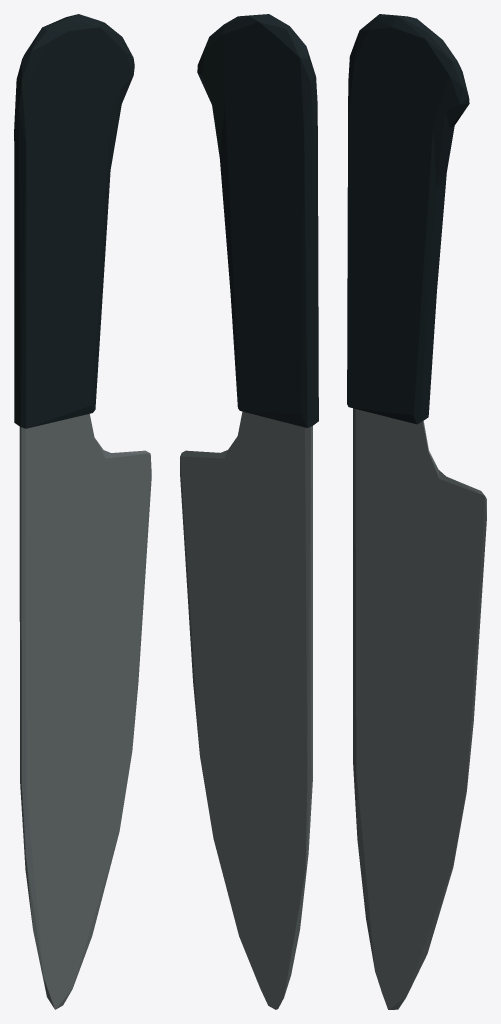
Rendered from Knife04.fbx.
3 views of the same model, side by side, from view 1: azimuth 30°, elevation 25°; view 2: azimuth 150°, elevation 25°; view 3: azimuth 330°, elevation 25° (orthographic).
Parts seen in each view (by area): view 1: Knife04LowPoly; view 2: Knife04LowPoly; view 3: Knife04LowPoly.
Boxes of the visible parts, box(x1,y1,x2,y2) form: Knife04LowPoly: box(14, 14, 151, 1009); Knife04LowPoly: box(180, 14, 318, 1009); Knife04LowPoly: box(347, 14, 486, 1009).
Bounding box in the file's own units: 3.38 × 23.66 × 0.5072.
